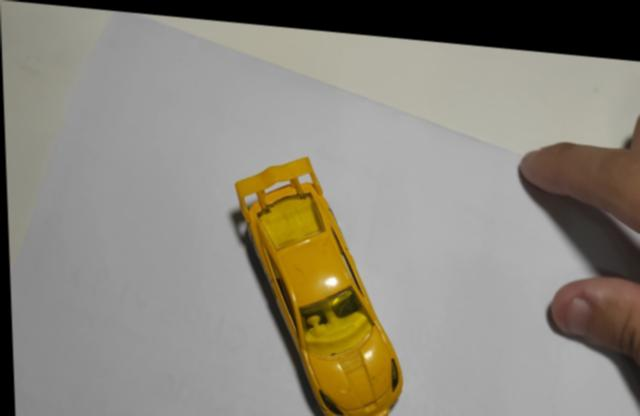07_RHLTURBO: (233, 152, 402, 416)
